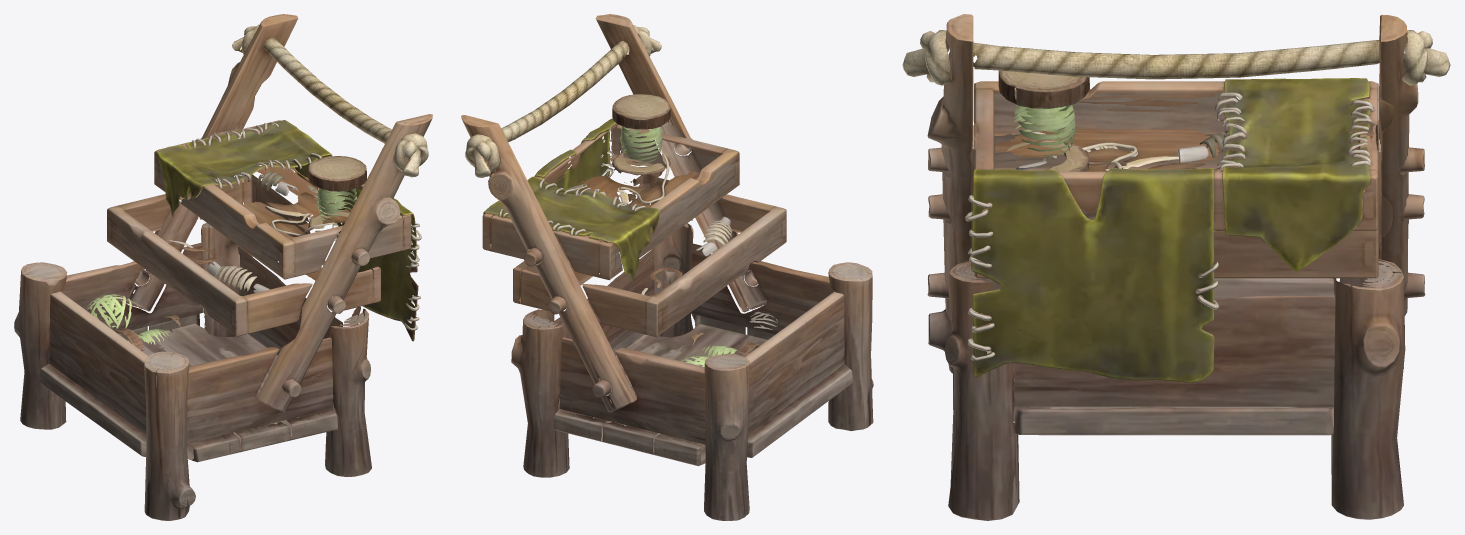
3 views of the same model, side by side, from view 1: azimuth 30°, elevation 25°; view 2: azimuth 150°, elevation 25°; view 3: azimuth 270°, elevation 25° (orthographic). The views are drawn at different scales.
Visible parts, largest first — view 1: SM_Loom_Harness_01_LOD0; view 2: SM_Loom_Harness_01_LOD0; view 3: SM_Loom_Harness_01_LOD0.
Boxes of the visible parts, x1,y1,x2,y2 form: SM_Loom_Harness_01_LOD0: [14, 14, 432, 520]; SM_Loom_Harness_01_LOD0: [461, 14, 873, 520]; SM_Loom_Harness_01_LOD0: [902, 14, 1450, 520].
Bounding box in the file's own units: 0.6471 × 0.7458 × 0.7036.
Materials: 1 (1 with a texture image).
